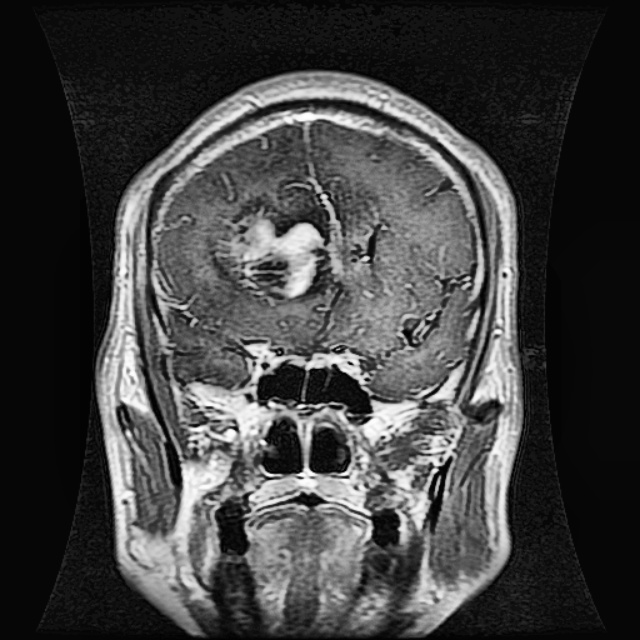Meningioma: (225, 202, 332, 299)
